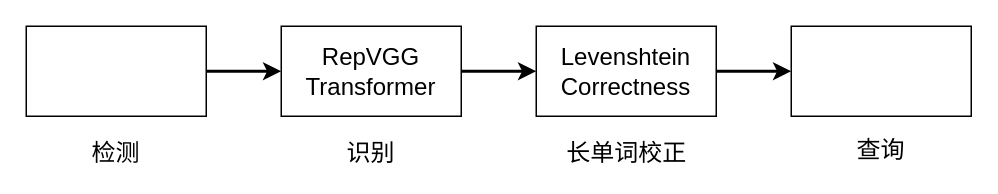
This 998x194 diagram has some shape labels left out. The shapes that lost their labels are listed below. From the top down, each one's box as (x1, y1, x2, y2) in pixels, then its label:
(25, 25, 206, 116): OSTU MaxPooling
(790, 25, 971, 116): BING.com
